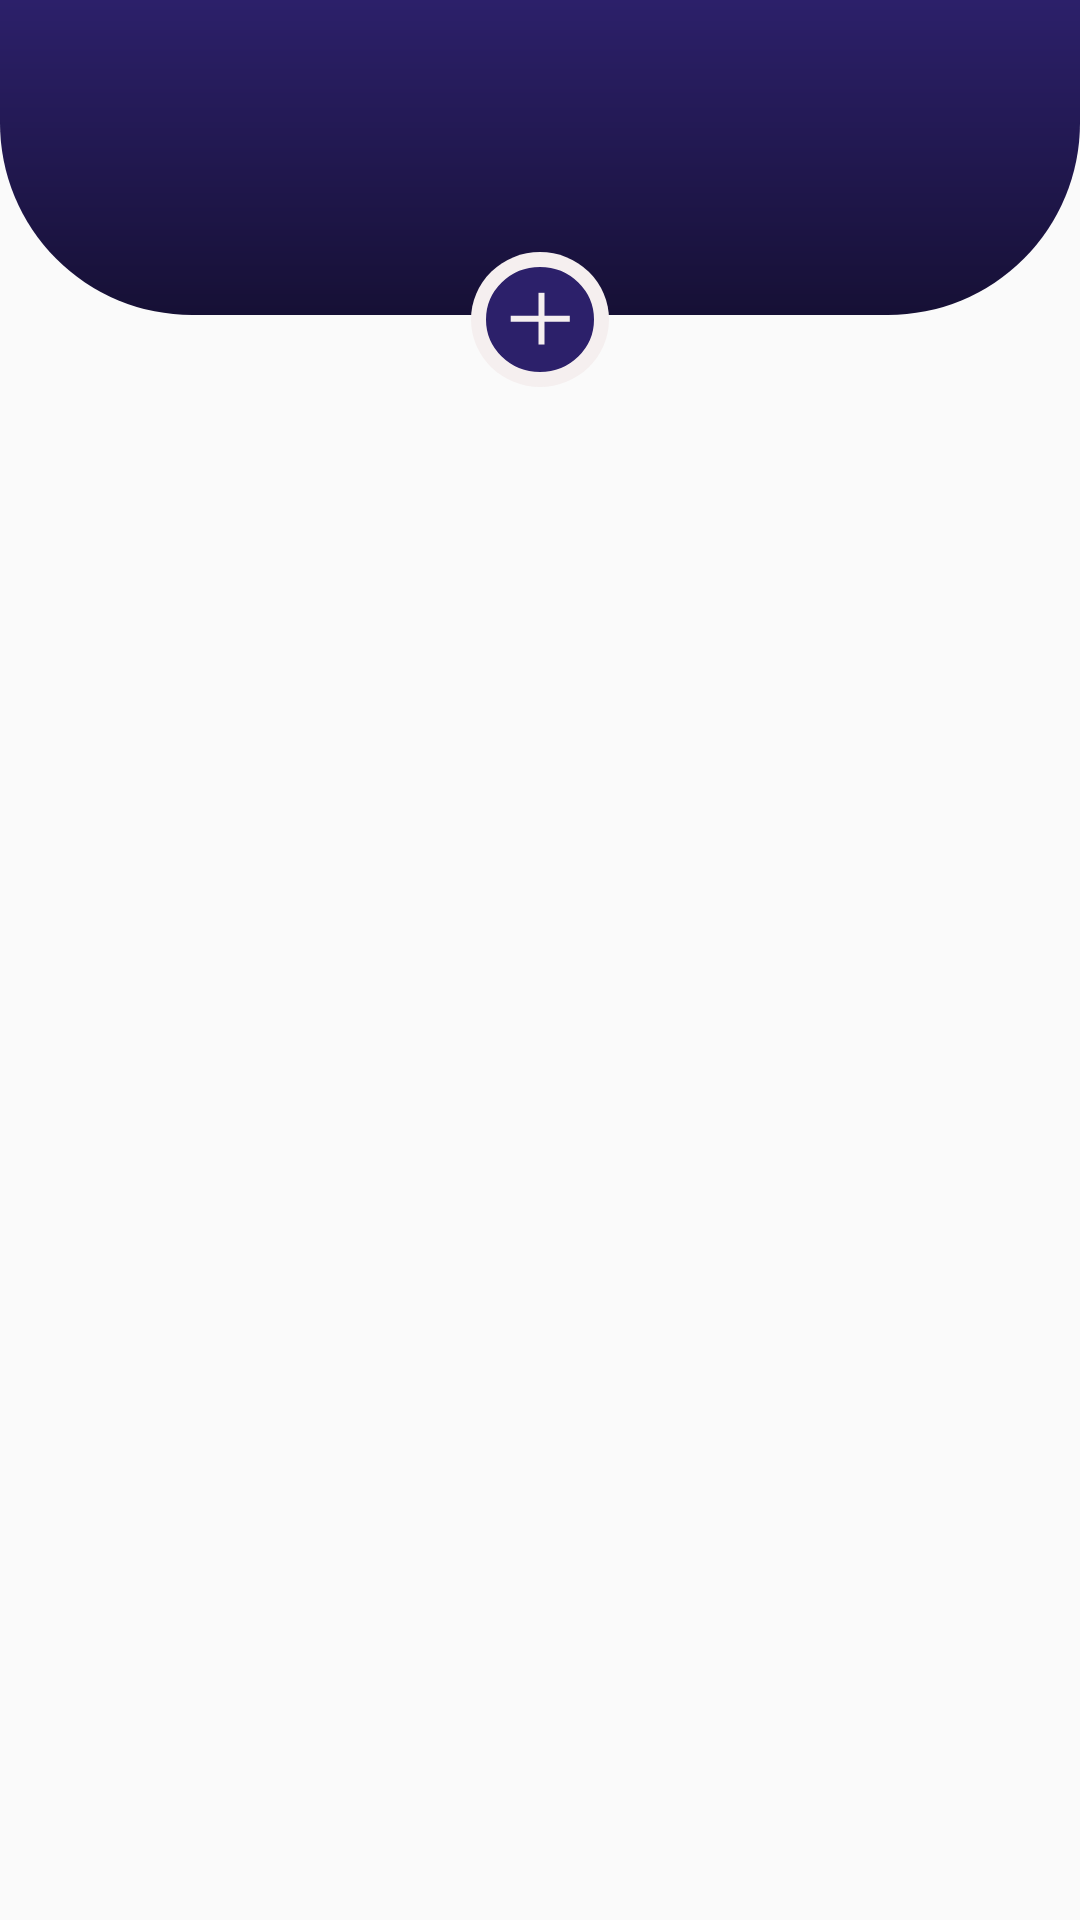

Icons on this 1080*1920 Android screen, each with the point to tap as (x,y):
add: (540,319)
